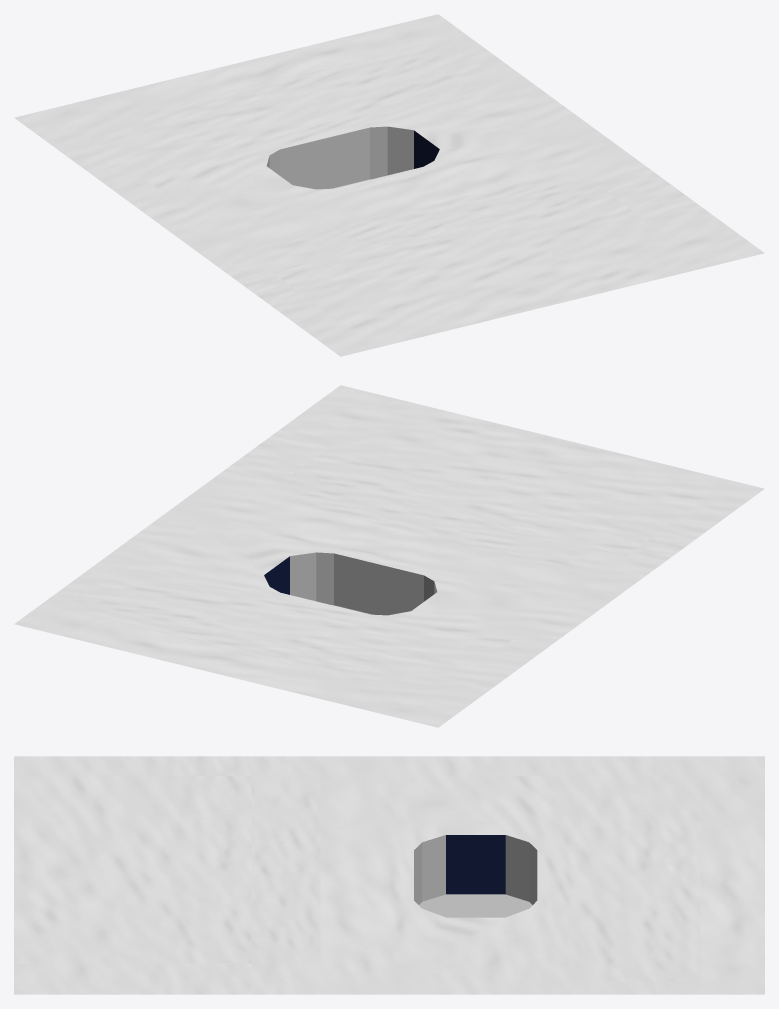
File: hole01.FBX
3 views of the same model, one above another, from view 1: azimuth 30°, elevation 25°; view 2: azimuth 150°, elevation 25°; view 3: azimuth 270°, elevation 25° (orthographic). The views are drawn at different scales.
Visible parts, largest first — view 1: modelRoad062; view 2: modelRoad062; view 3: modelRoad062.
Part boxes in pixels (x1,y1,x2,y2): modelRoad062: (14, 14, 764, 356); modelRoad062: (14, 385, 764, 727); modelRoad062: (14, 756, 764, 994).
Size of the model in its own units: 600 by 70 by 800.
